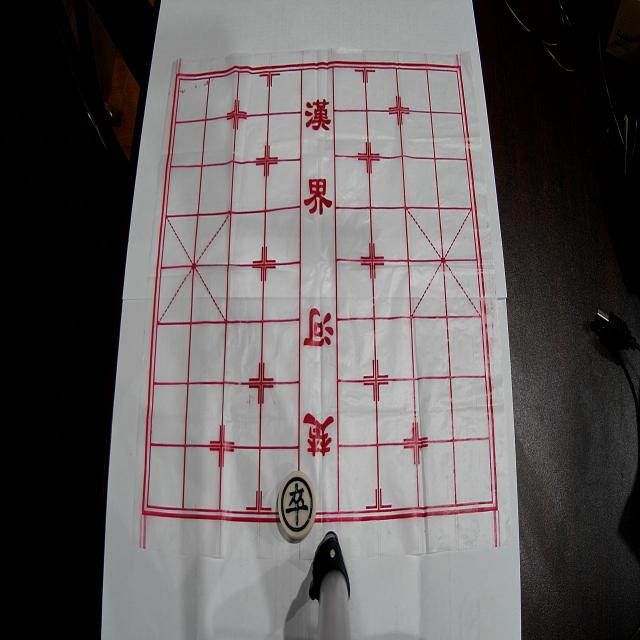black-soldier: (278, 471, 316, 539)
